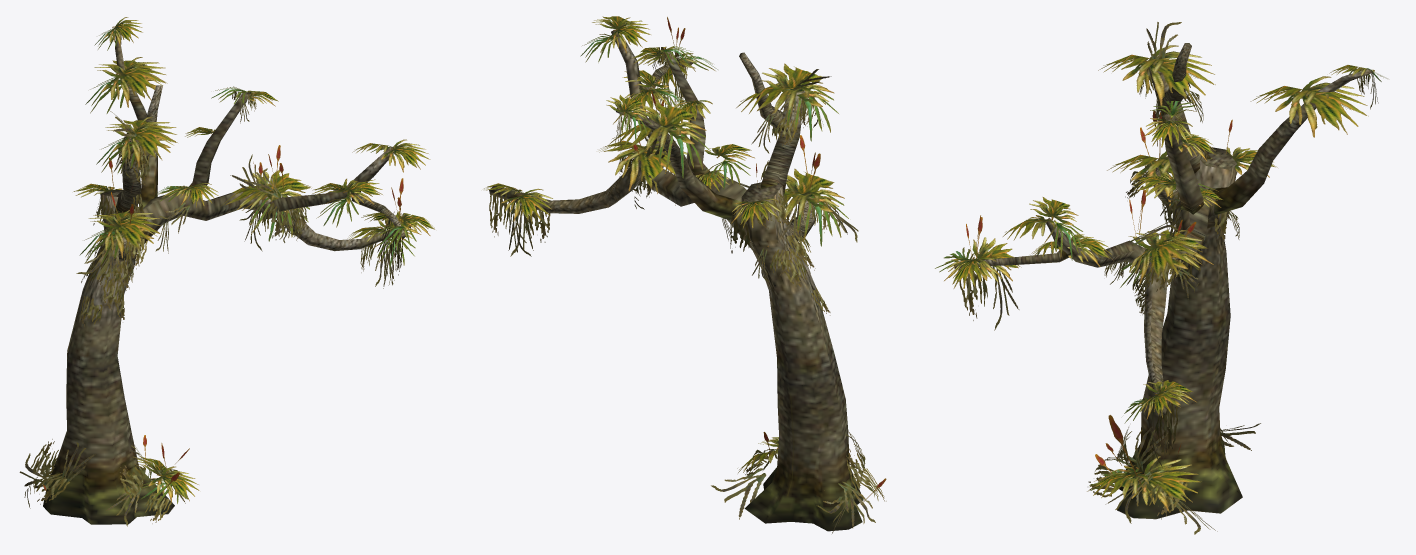
The model's file is S_Tree_Yellow050.FBX.
3 views of the same model, side by side, from view 1: azimuth 30°, elevation 25°; view 2: azimuth 150°, elevation 25°; view 3: azimuth 270°, elevation 25° (orthographic). The views are drawn at different scales.
Visible parts, largest first — view 1: S_Tree_Yellow050; view 2: S_Tree_Yellow050; view 3: S_Tree_Yellow050.
Boxes of the visible parts, x1,y1,x2,y2 form: S_Tree_Yellow050: (19,17,434,526); S_Tree_Yellow050: (484,16,886,533); S_Tree_Yellow050: (935,22,1387,534).
Bounding box in the file's own units: 823 × 733 × 849.
